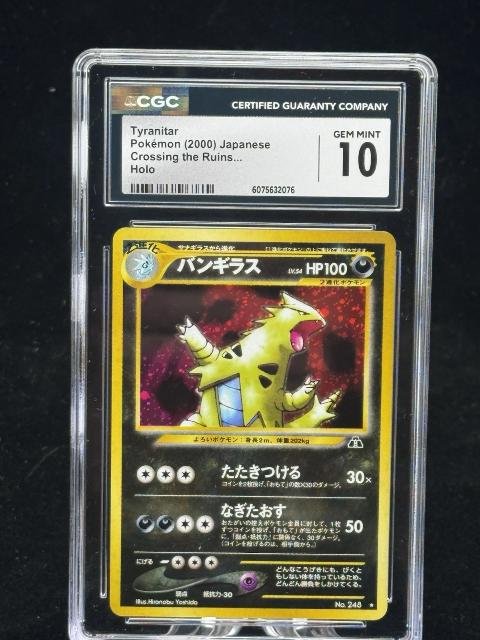Card: (107, 223, 399, 625)
Name: (174, 254, 264, 280)
